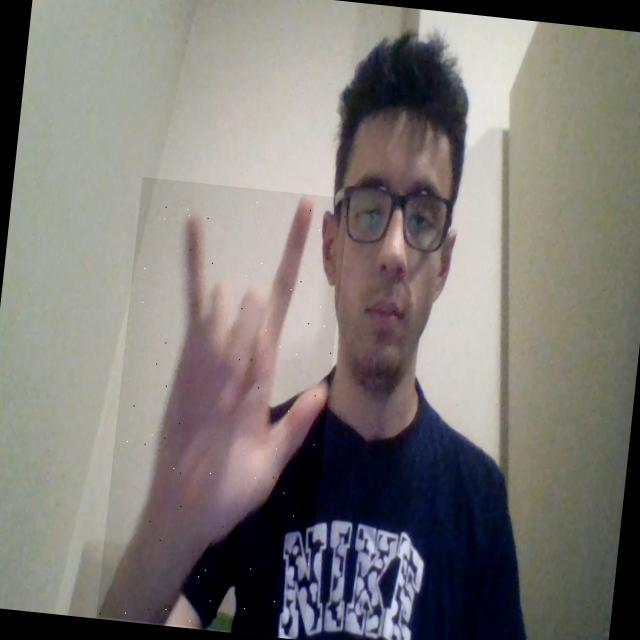iloveyou: (96, 177, 349, 638)
